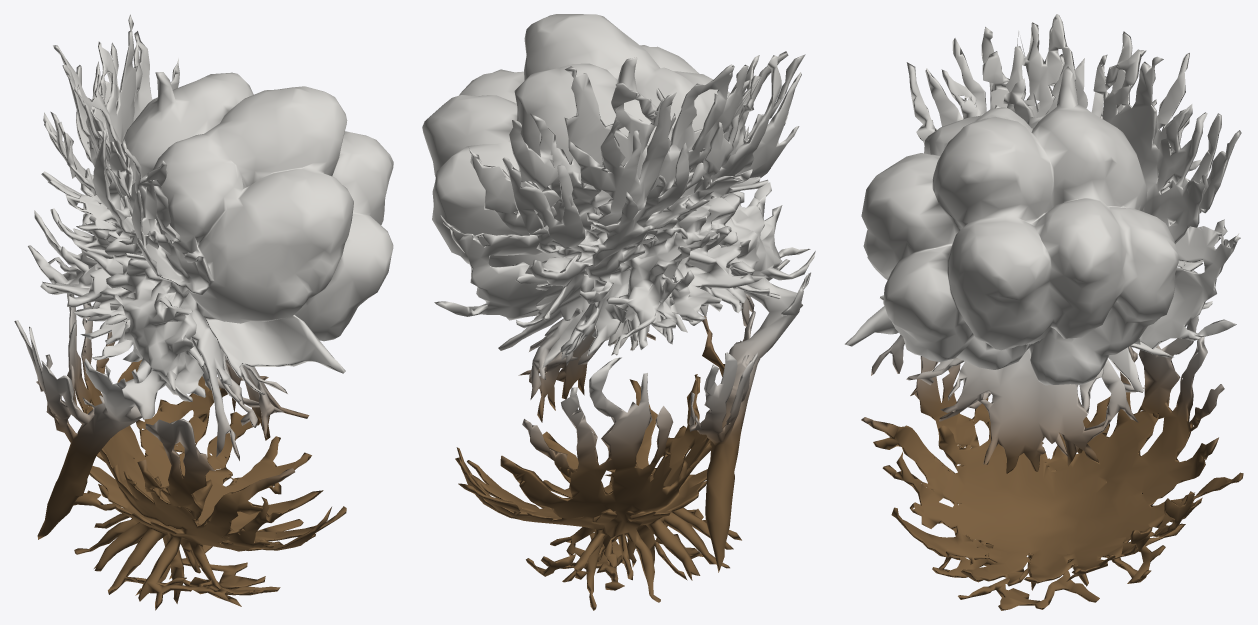
File: cotton3-hi.glb
3 views of the same model, side by side, from view 1: azimuth 30°, elevation 25°; view 2: azimuth 150°, elevation 25°; view 3: azimuth 270°, elevation 25° (orthographic). The views are drawn at different scales.
Bounding box in the file's own units: 1.27 × 2.06 × 1.38.
